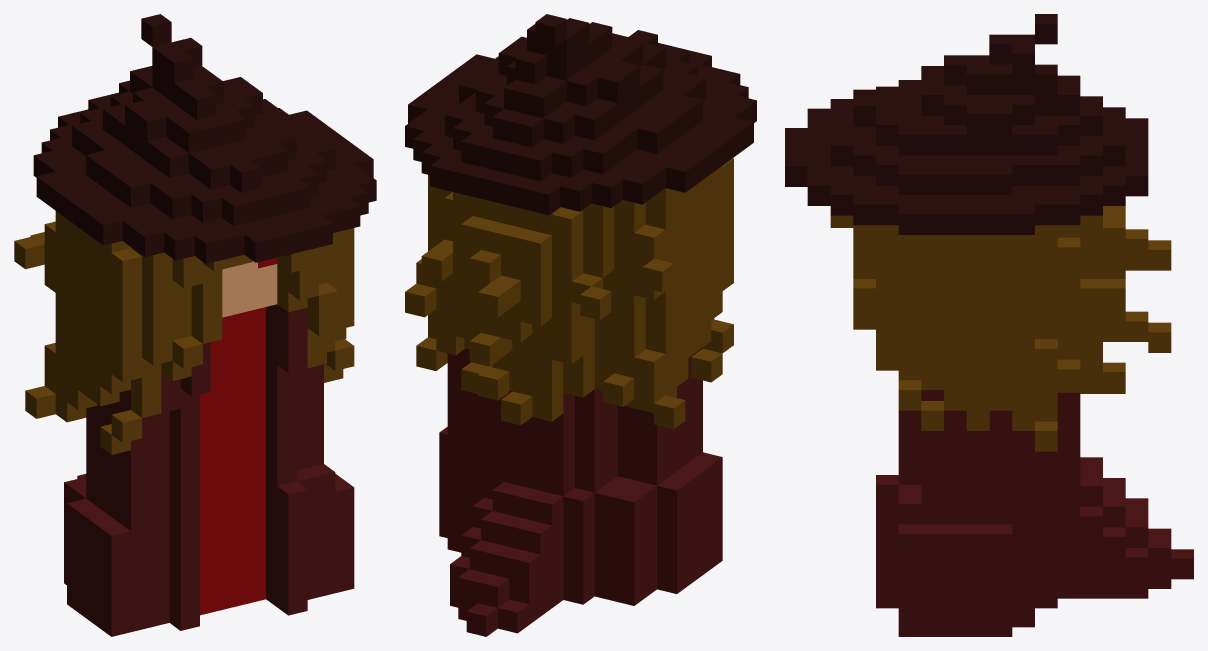
File: Bruxa 02 - Andando-00.obj
3 views of the same model, side by side, from view 1: azimuth 30°, elevation 25°; view 2: azimuth 150°, elevation 25°; view 3: azimuth 270°, elevation 25° (orthographic). The views are drawn at different scales.
Size of the model in its own units: 14 by 27 by 18.
Materials: 1 (1 with a texture image).
